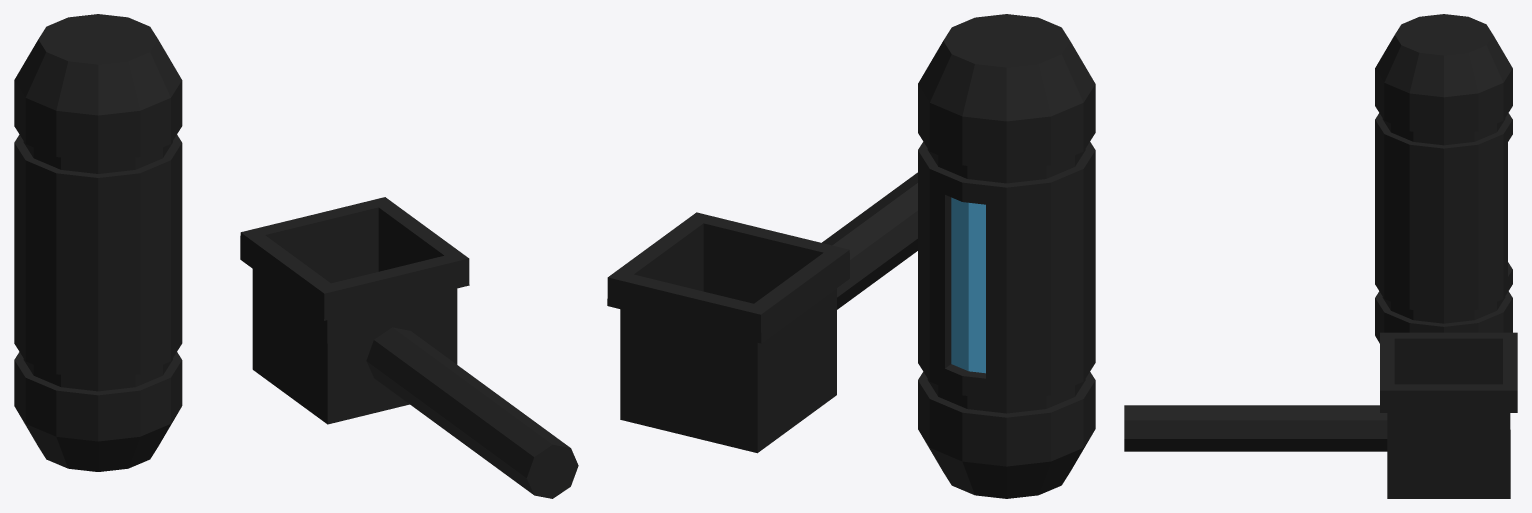
Rendered from LockBasin.fbx.
3 renders of one model, left to right at view 1: azimuth 30°, elevation 25°; view 2: azimuth 150°, elevation 25°; view 3: azimuth 270°, elevation 25°, orthographic. The views are drawn at different scales.
Visible parts, largest first — view 1: Lock Basin Indicator, Lock Basin; view 2: Lock Basin Indicator, Lock Basin; view 3: Lock Basin Indicator, Lock Basin.
Part boxes in pixels (x1,y1,x2,y2): Lock Basin Indicator: [14, 14, 182, 471]; Lock Basin: [240, 197, 578, 498]; Lock Basin Indicator: [918, 14, 1095, 498]; Lock Basin: [607, 172, 917, 453]; Lock Basin Indicator: [1375, 14, 1512, 343]; Lock Basin: [1124, 332, 1517, 498].
Size of the model in its own units: 1.56 by 1.6 by 1.5.
